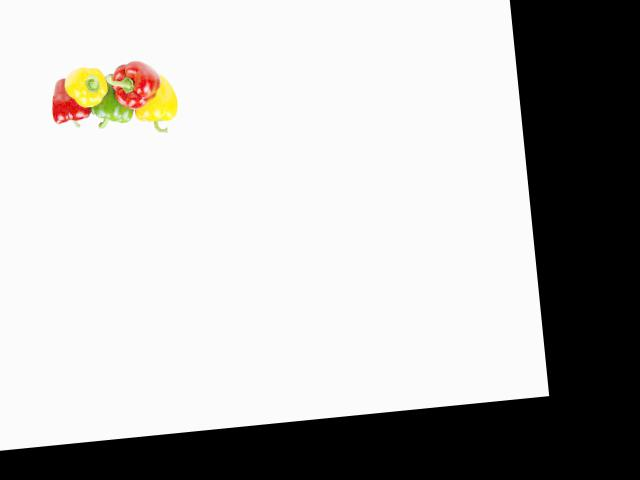bell_pepper: (46, 82, 92, 131)
